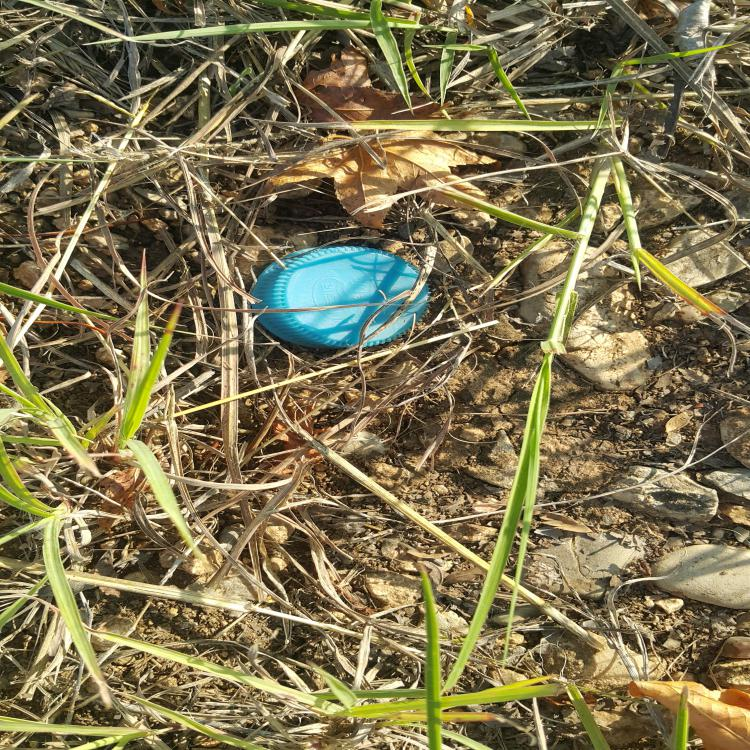Plastic bottle cap: (251, 246, 431, 349)
